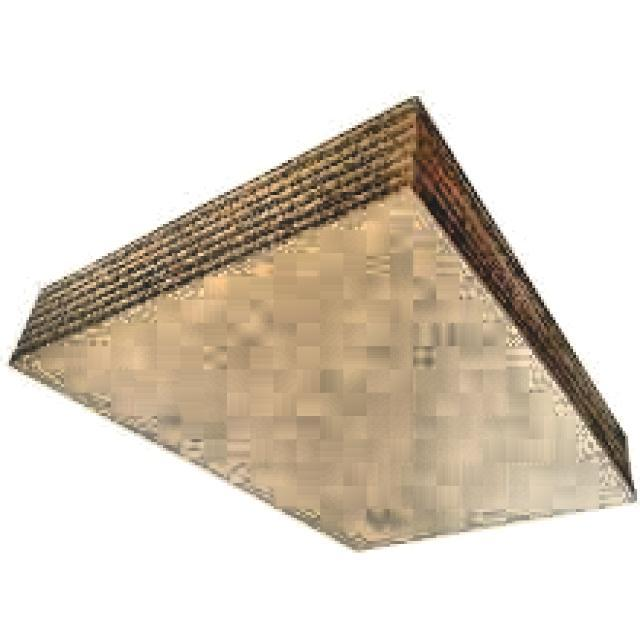cardboard: (5, 96, 638, 559)
